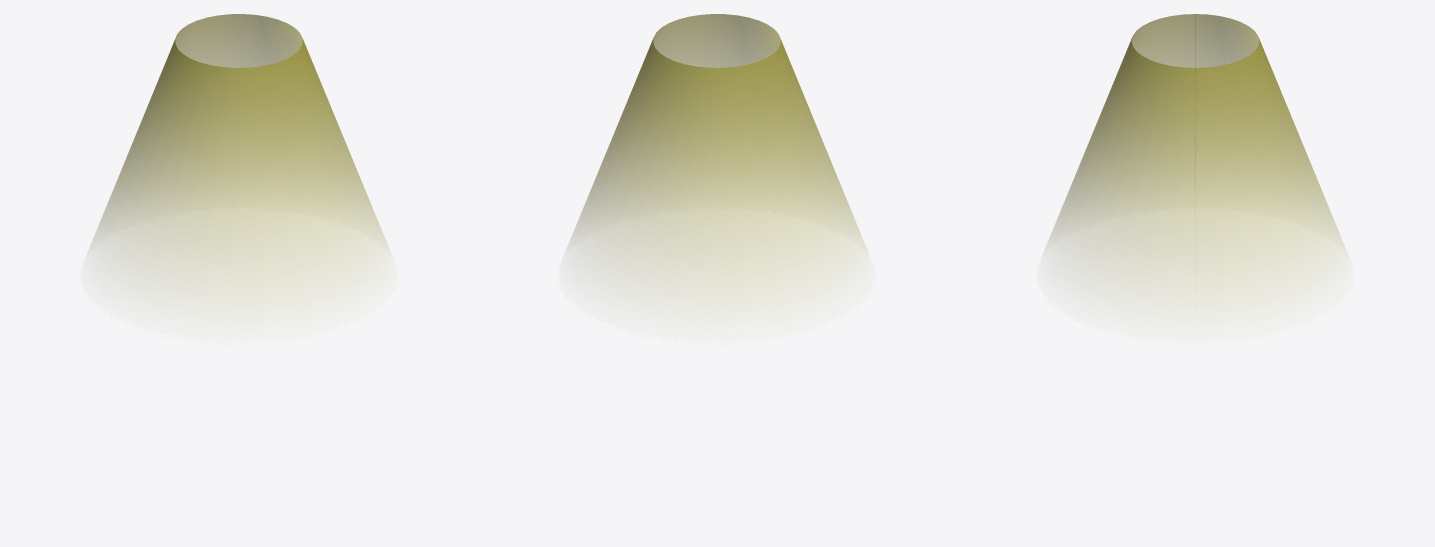
Rendered from lightCone.glb.
3 views of the same model, side by side, from view 1: azimuth 30°, elevation 25°; view 2: azimuth 150°, elevation 25°; view 3: azimuth 270°, elevation 25° (orthographic).
Parts seen in each view (by area): view 1: Cone; view 2: Cone; view 3: Cone.
Boxes of the visible parts, x1=… form: Cone: x1=91, y1=14, x2=387, y2=285; Cone: x1=569, y1=14, x2=864, y2=285; Cone: x1=1048, y1=14, x2=1342, y2=299.
Size of the model in its own units: 2.51 by 2.44 by 2.51.
1 material, 1 textured.
